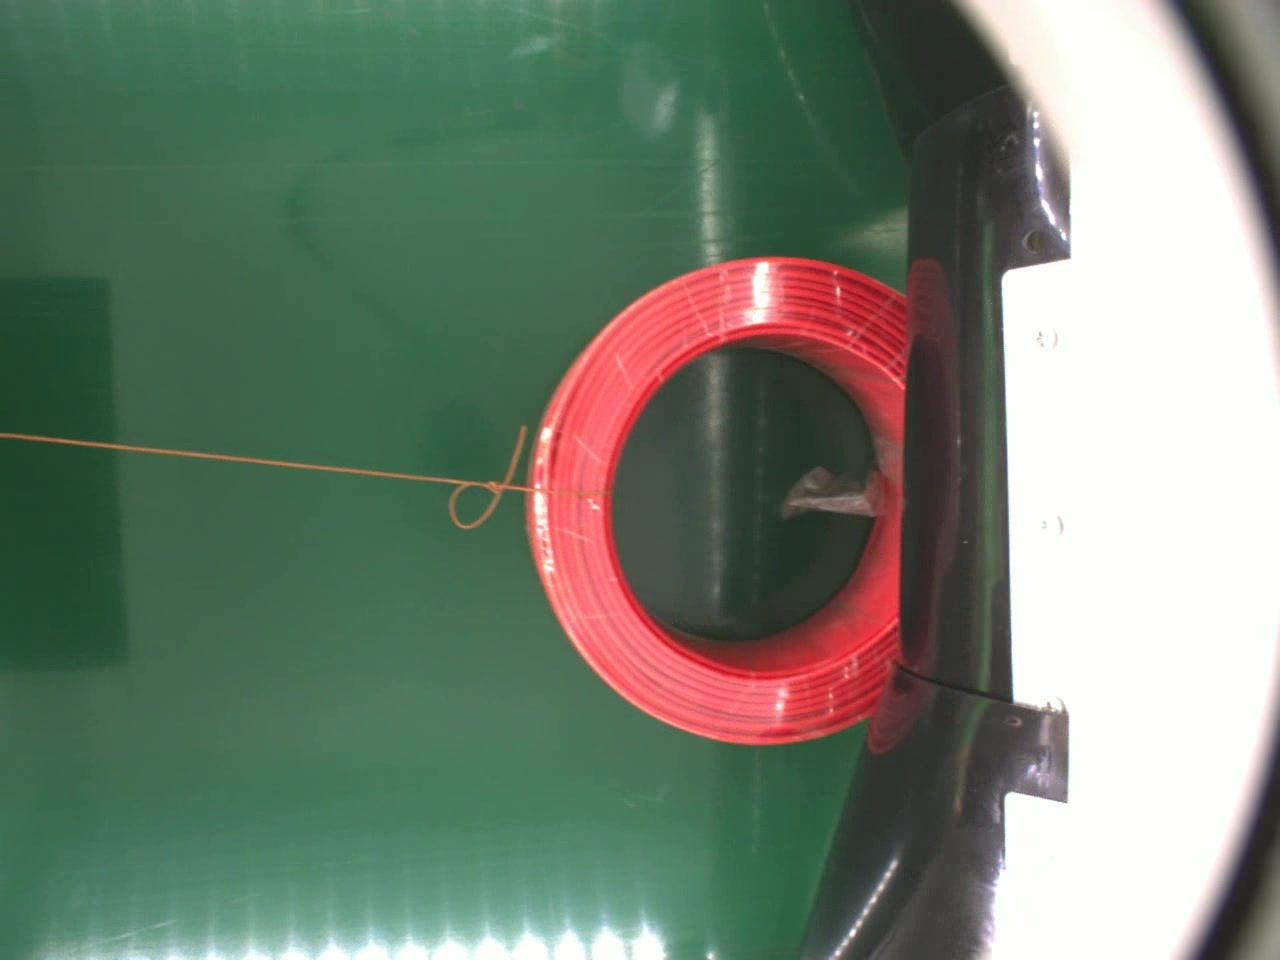red: (519, 250, 906, 746)
